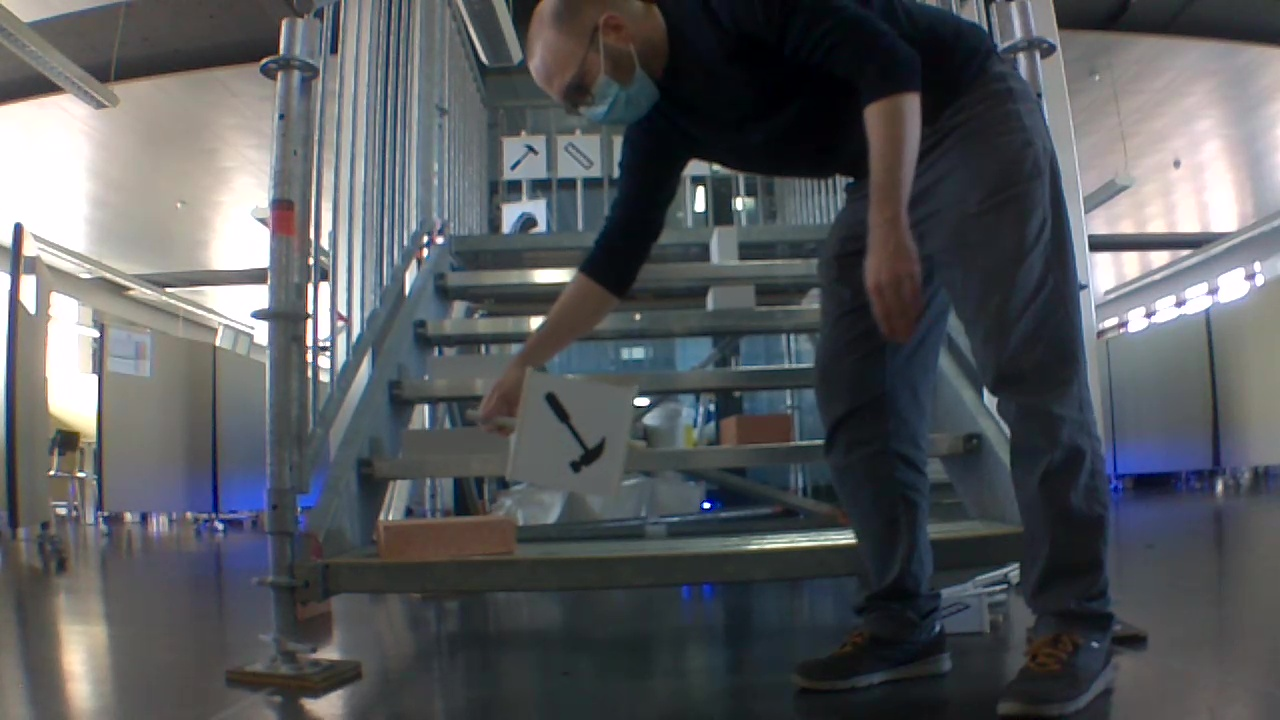brick: (377, 515, 516, 563), (402, 429, 504, 459), (720, 412, 790, 443), (429, 356, 512, 382), (708, 287, 753, 309), (711, 225, 737, 260)
hammer: (533, 389, 613, 477), (505, 141, 540, 177)
ruler: (558, 141, 594, 173)
taco: (503, 207, 543, 232)
